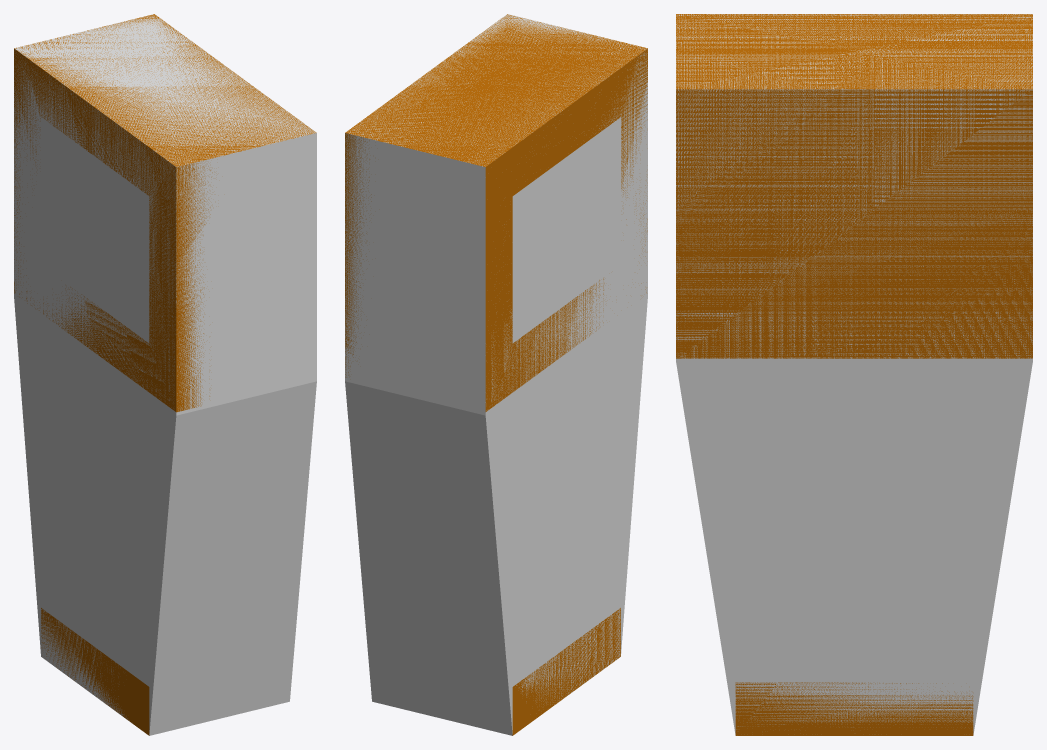
File: Post1_B2_1_01.FBX
3 views of the same model, side by side, from view 1: azimuth 30°, elevation 25°; view 2: azimuth 150°, elevation 25°; view 3: azimuth 270°, elevation 25° (orthographic). The views are drawn at different scales.
Visible parts, largest first — view 1: Post1_B2_Damage_1_01, Post1_B2_Live_1_01; view 2: Post1_B2_Damage_1_01, Post1_B2_Live_1_01; view 3: Post1_B2_Damage_1_01, Post1_B2_Live_1_01.
Boxes of the visible parts, x1,y1,x2,y2 form: Post1_B2_Damage_1_01: (14, 14, 316, 735); Post1_B2_Live_1_01: (14, 14, 316, 735); Post1_B2_Damage_1_01: (345, 14, 647, 735); Post1_B2_Live_1_01: (345, 14, 647, 735); Post1_B2_Damage_1_01: (676, 14, 1032, 734); Post1_B2_Live_1_01: (676, 14, 1032, 735).
Bounding box in the file's own units: 0.45 × 1.8 × 0.9.
